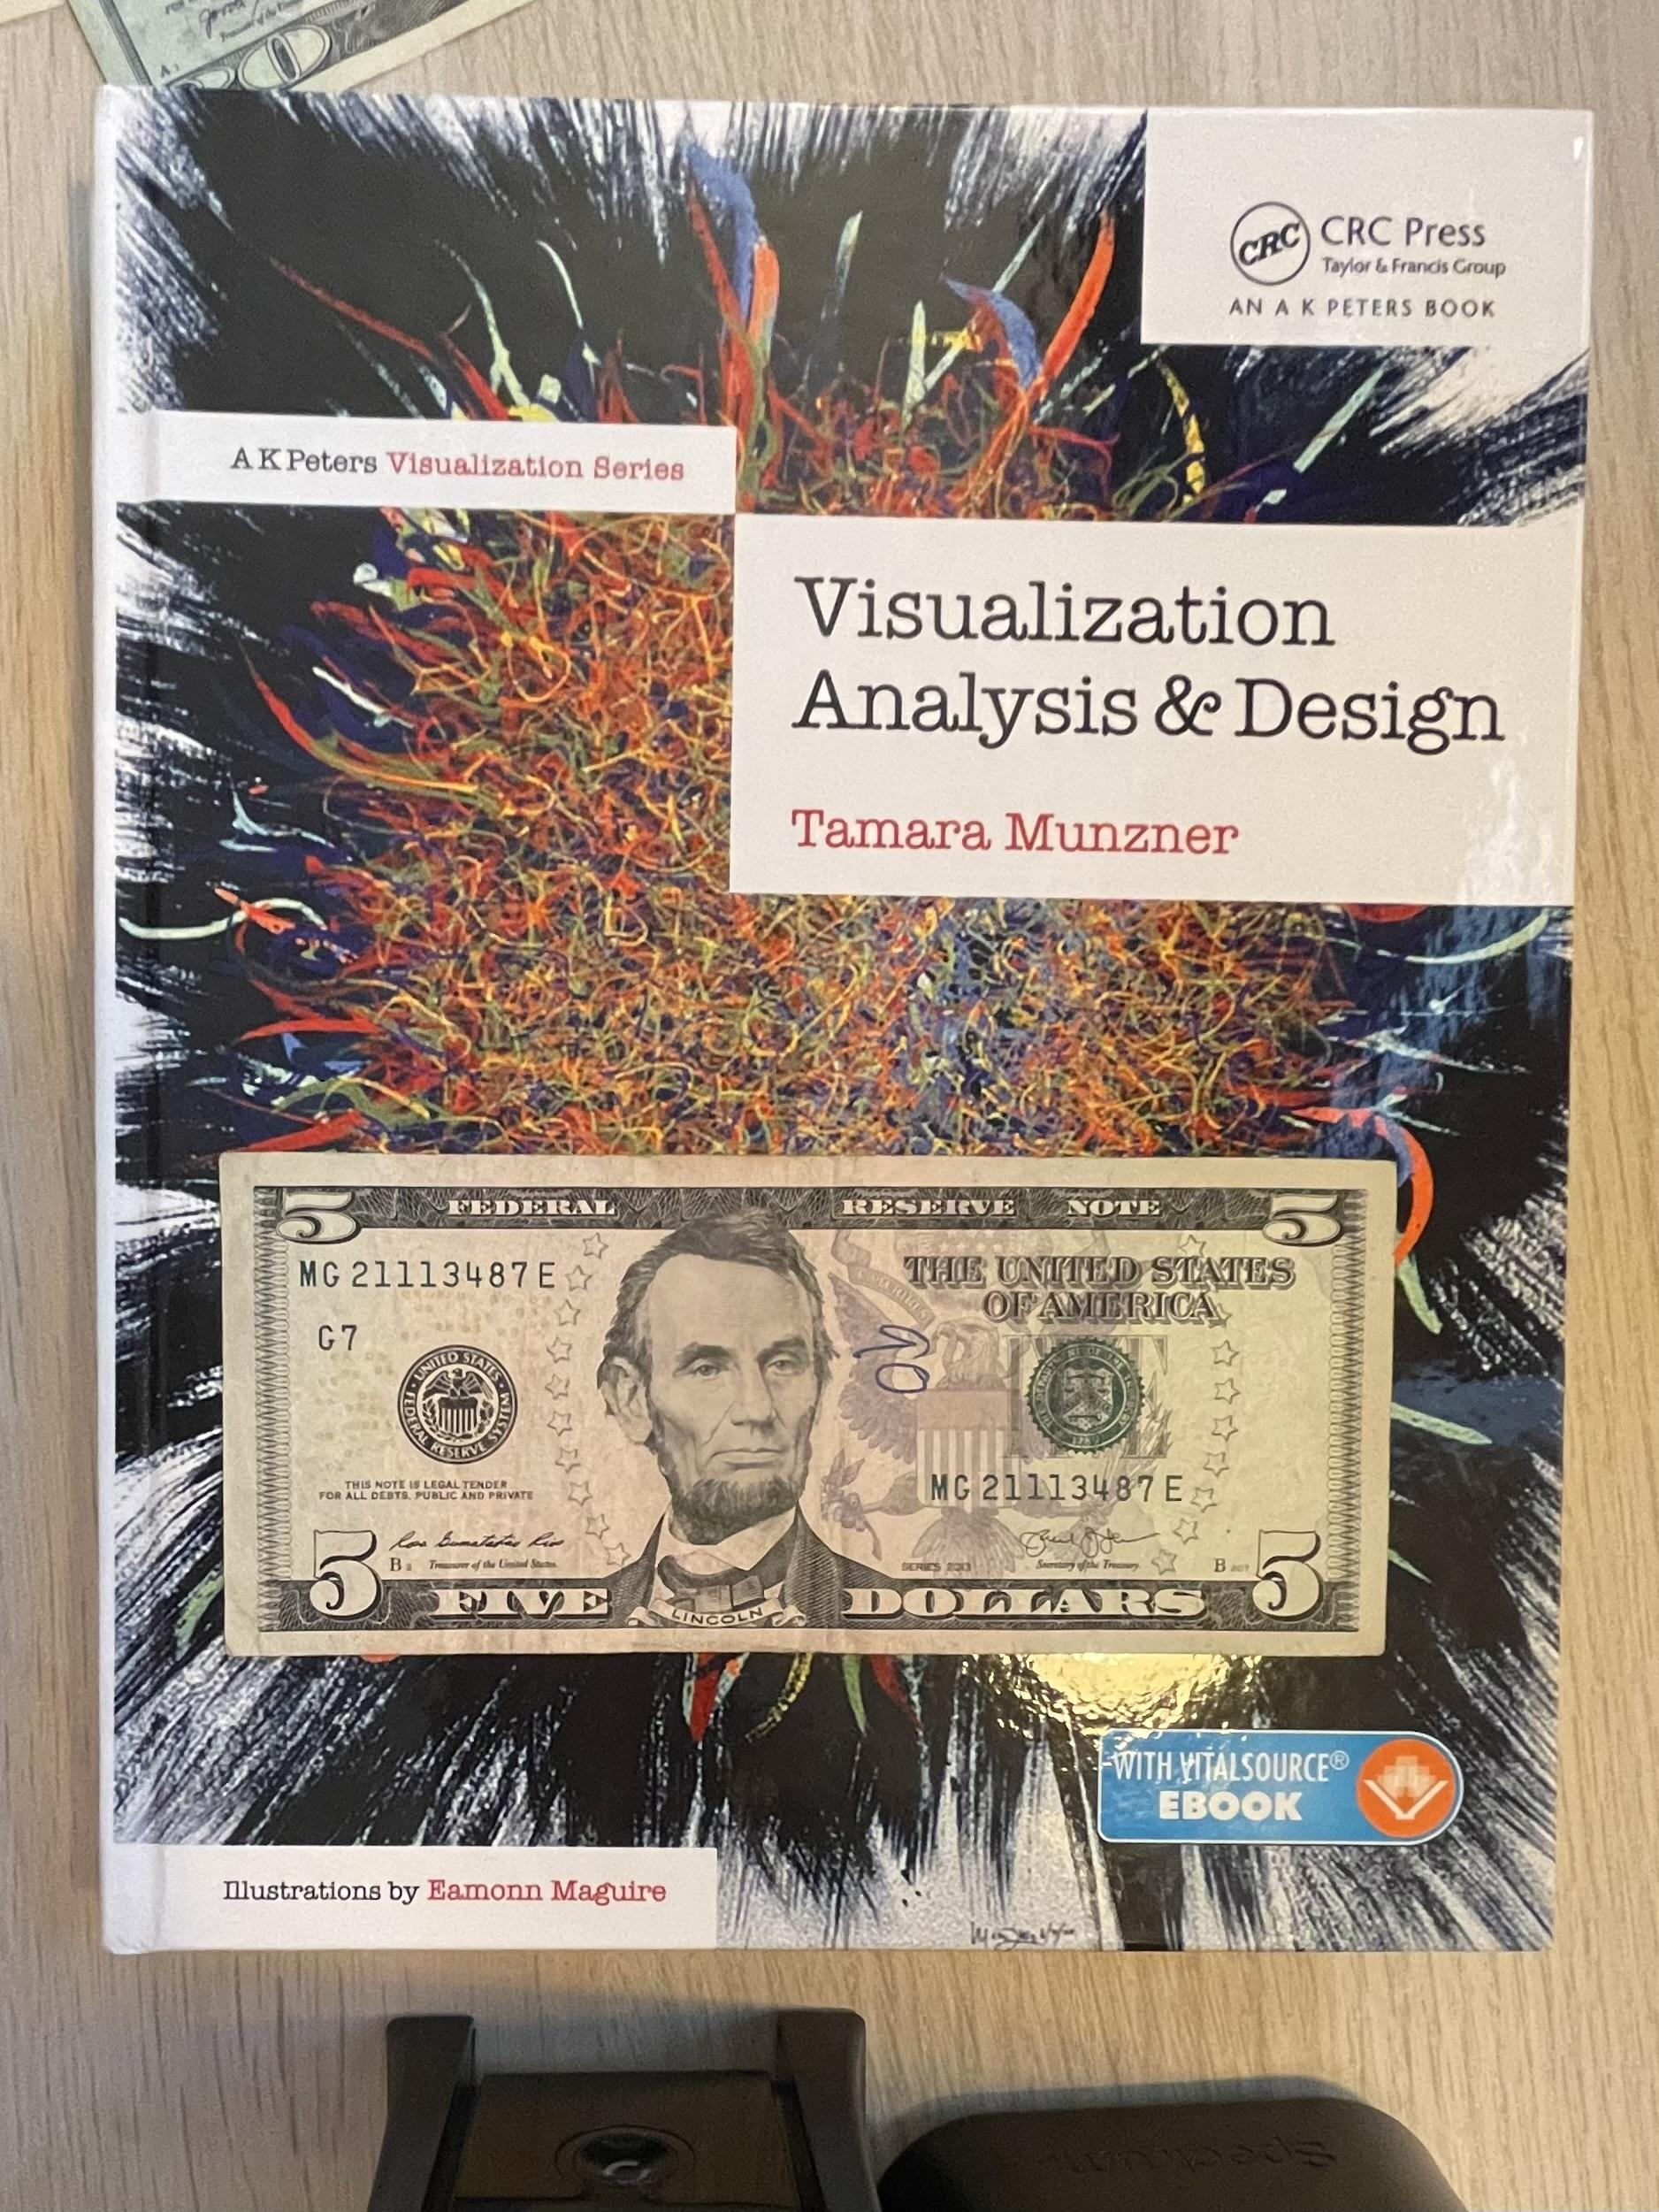FiveBill: (216, 1149, 1398, 1659)
